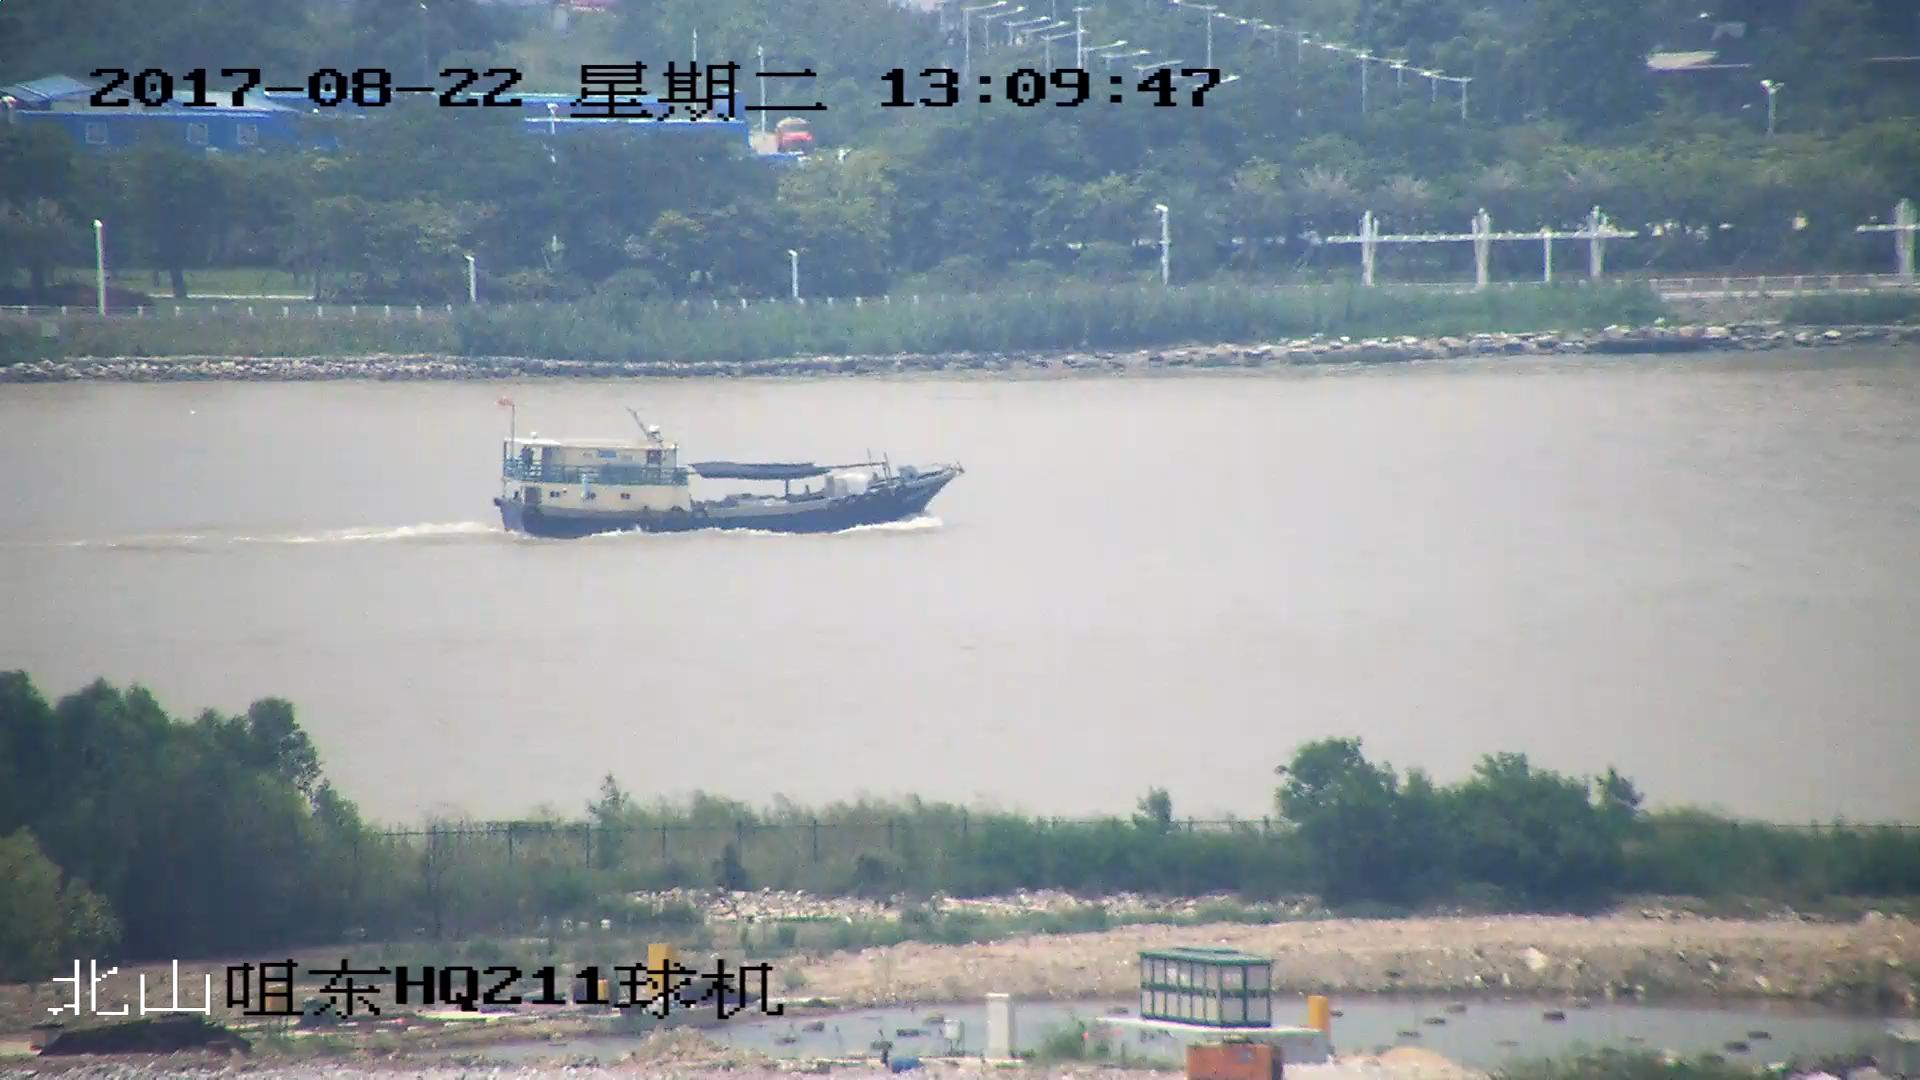fishing boat: (490, 403, 963, 543)
